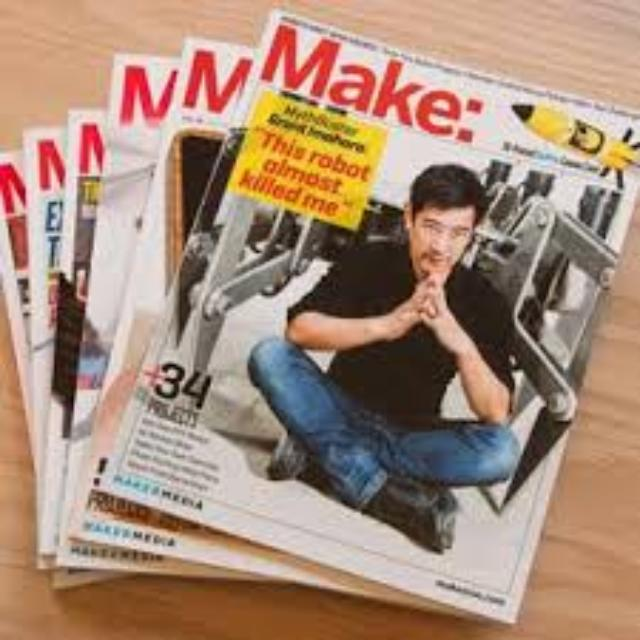cardboard paper: (98, 7, 639, 625), (64, 33, 514, 628)
